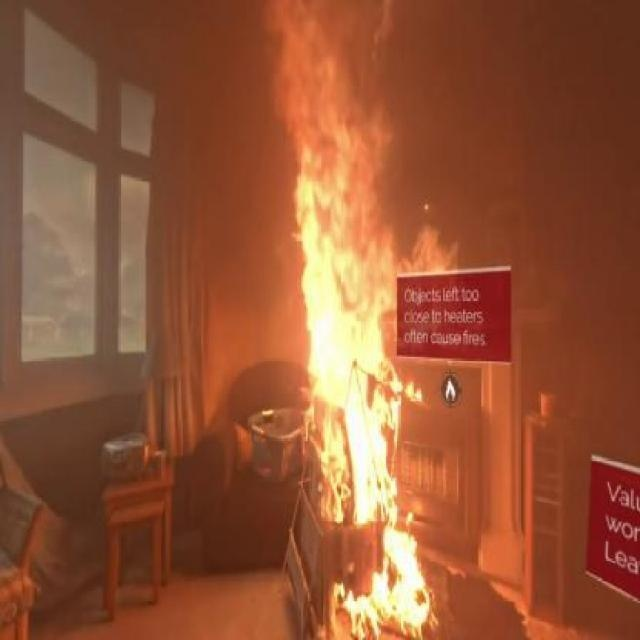fire: (258, 4, 423, 458)
